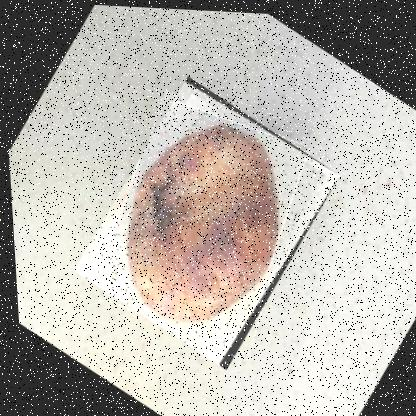guava_rotten: (59, 68, 346, 373)
